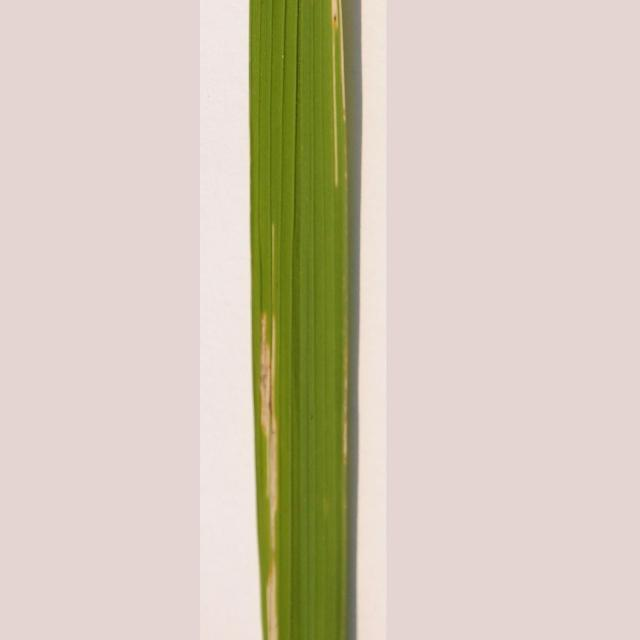Bacterial leaf blight: (202, 0, 382, 640)
